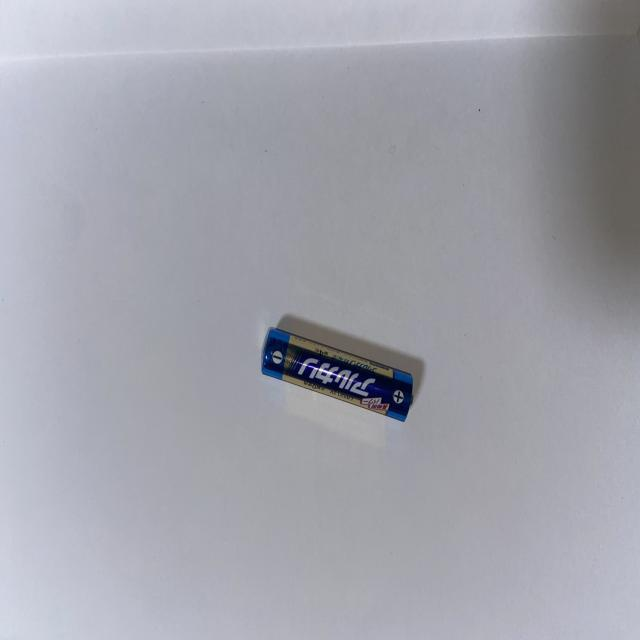Hazard: (258, 324, 414, 426)
